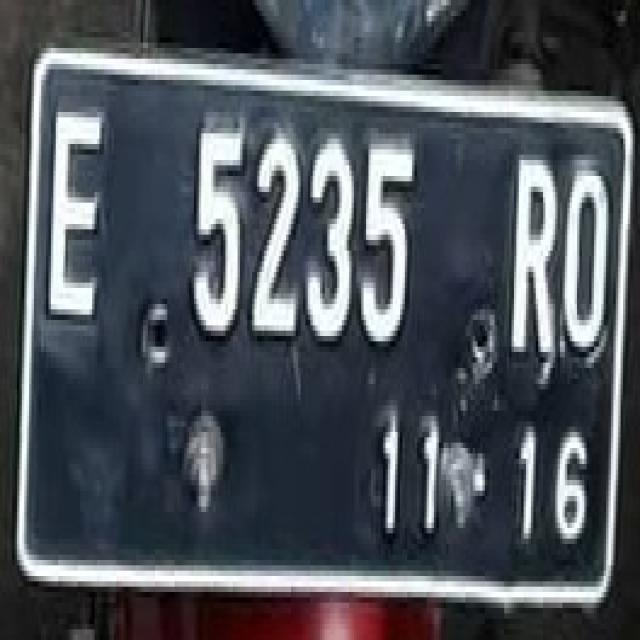plate: (19, 37, 623, 608)
